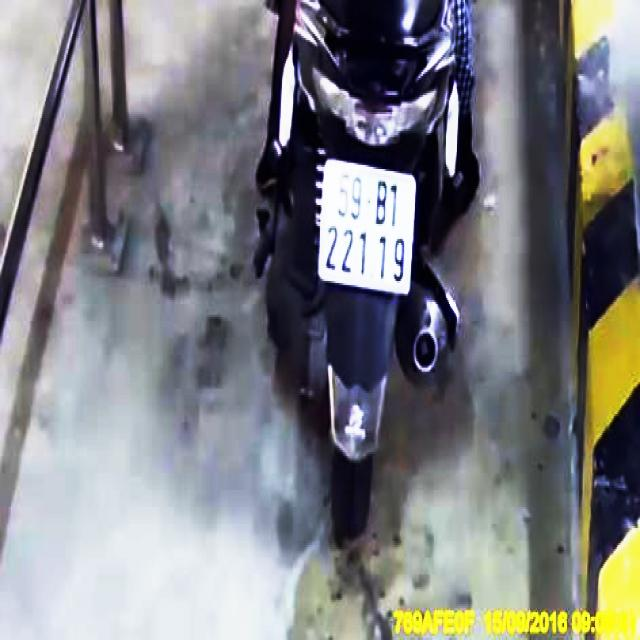license_plate: (319, 158, 421, 298)
